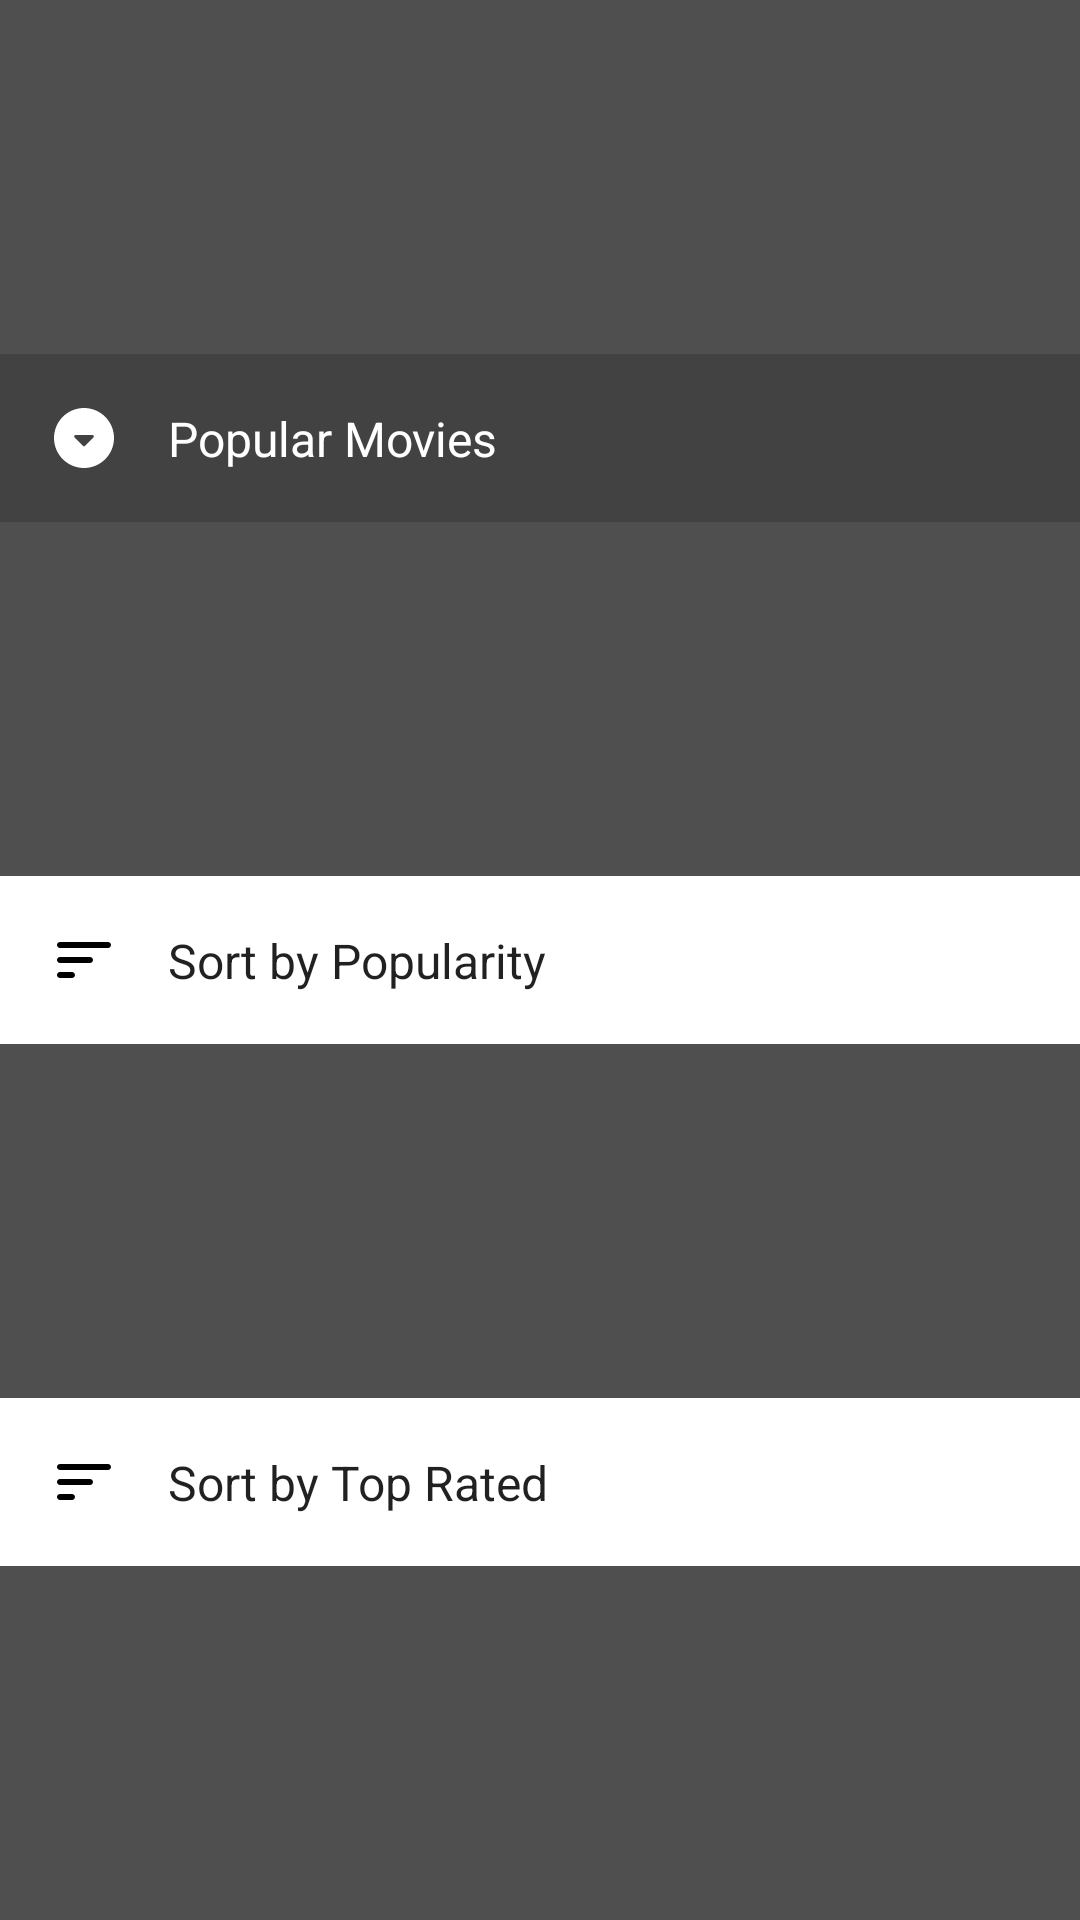

Icon bounding boxes for this 1080w x 1920h phone screenshot, format (x1, y1, x2, y2):
arrow drop down circle: (54, 408, 114, 468)
